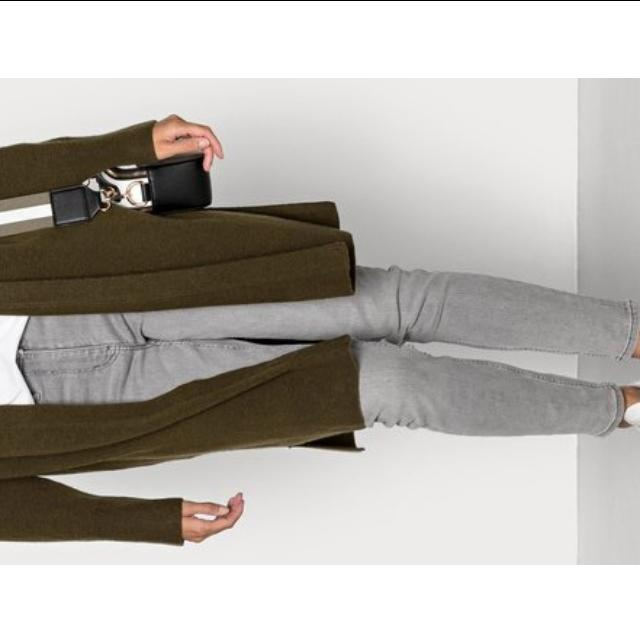denim: (22, 310, 208, 392)
